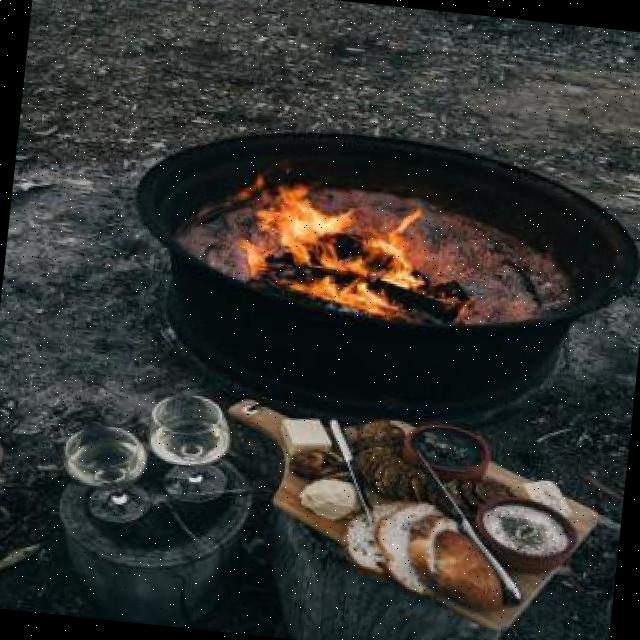fire: (242, 154, 446, 340)
